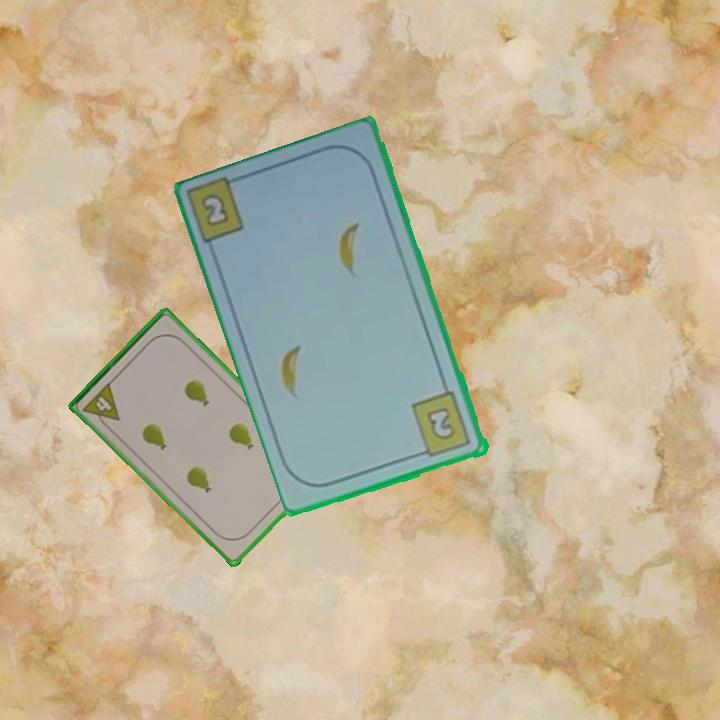2b: (408, 388, 475, 461), (197, 190, 233, 231)
4p: (79, 379, 123, 432)
